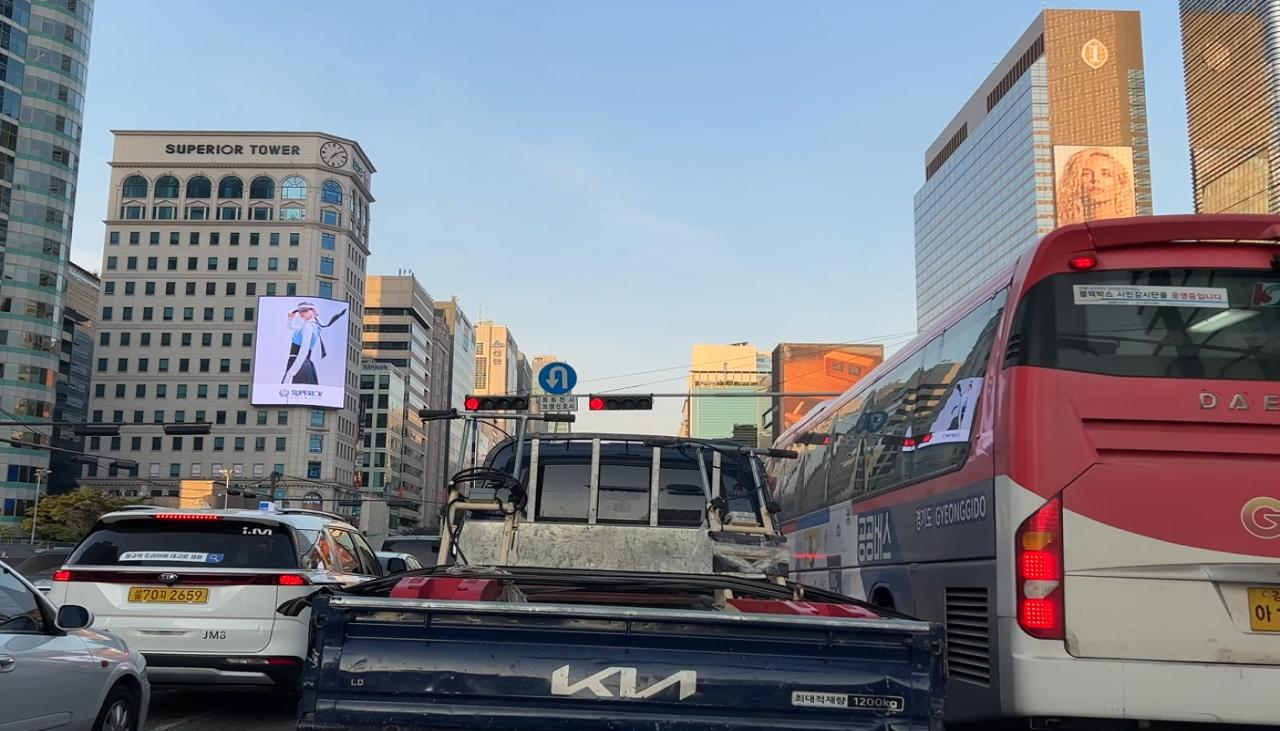Red Light: (588, 395, 603, 410), (465, 395, 479, 411)
